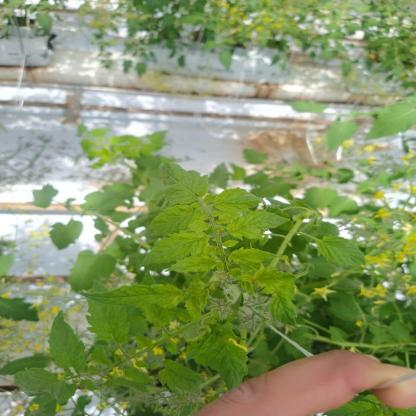T_L_H: (200, 341, 249, 390), (16, 369, 78, 406), (51, 312, 88, 373), (151, 206, 204, 237), (317, 237, 366, 267), (159, 361, 204, 392)
T_L_R: (82, 285, 184, 309), (143, 232, 210, 267), (160, 164, 210, 206), (88, 301, 130, 345), (228, 212, 289, 240), (216, 189, 263, 213), (255, 268, 297, 294), (270, 293, 298, 326), (170, 256, 219, 274), (230, 249, 276, 265)
T_S_R: (131, 324, 193, 359), (211, 218, 227, 268)
